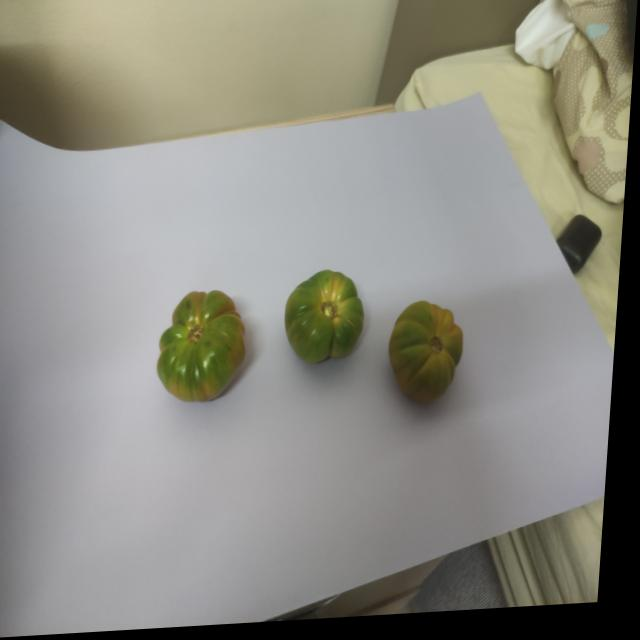yesil: (150, 276, 259, 405), (390, 284, 481, 408), (281, 272, 383, 373)
